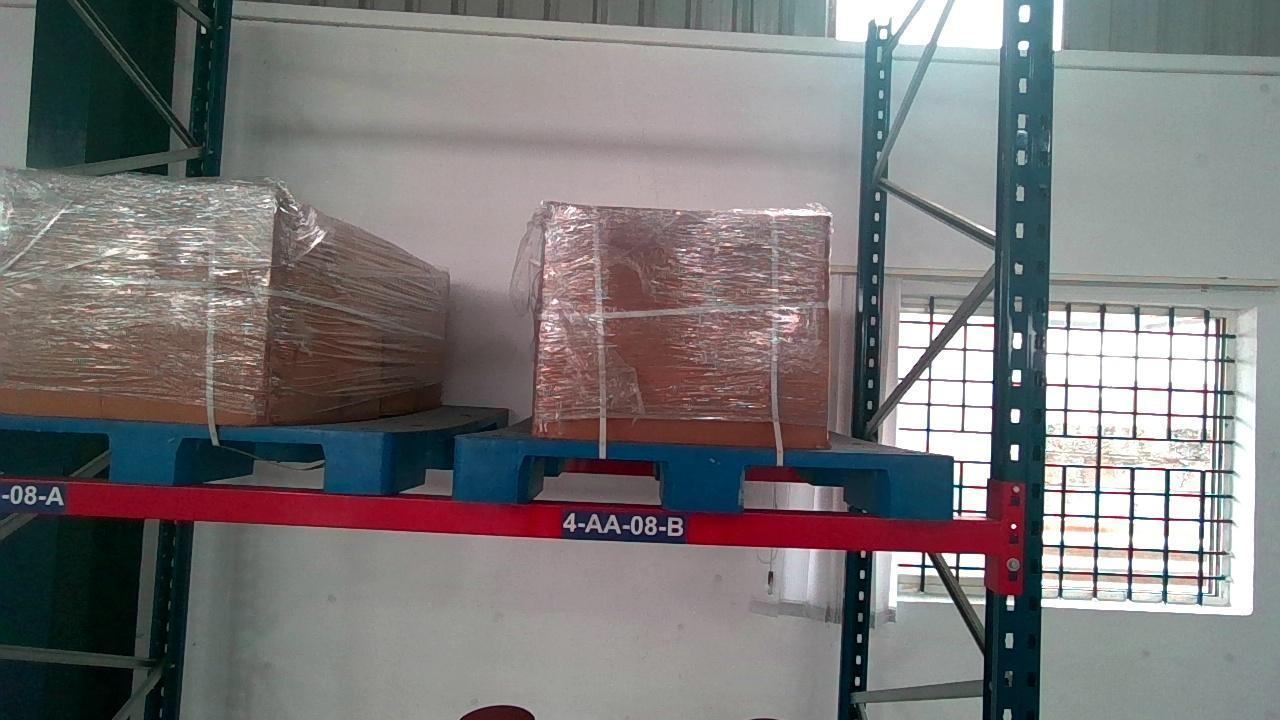h_rack: (7, 488, 996, 547)
small_pallet: (449, 439, 955, 513), (3, 420, 384, 487)
